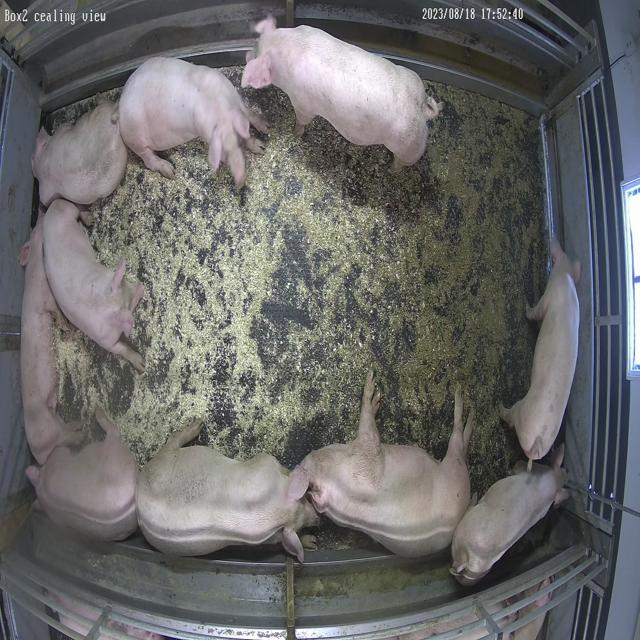Dirt: (382, 82, 548, 494)
Pig: (291, 373, 473, 558), (242, 18, 440, 170), (136, 422, 318, 562), (118, 57, 267, 186), (502, 241, 581, 461), (42, 200, 143, 372), (20, 214, 79, 466), (25, 411, 137, 542), (451, 465, 568, 586), (32, 104, 127, 206)
